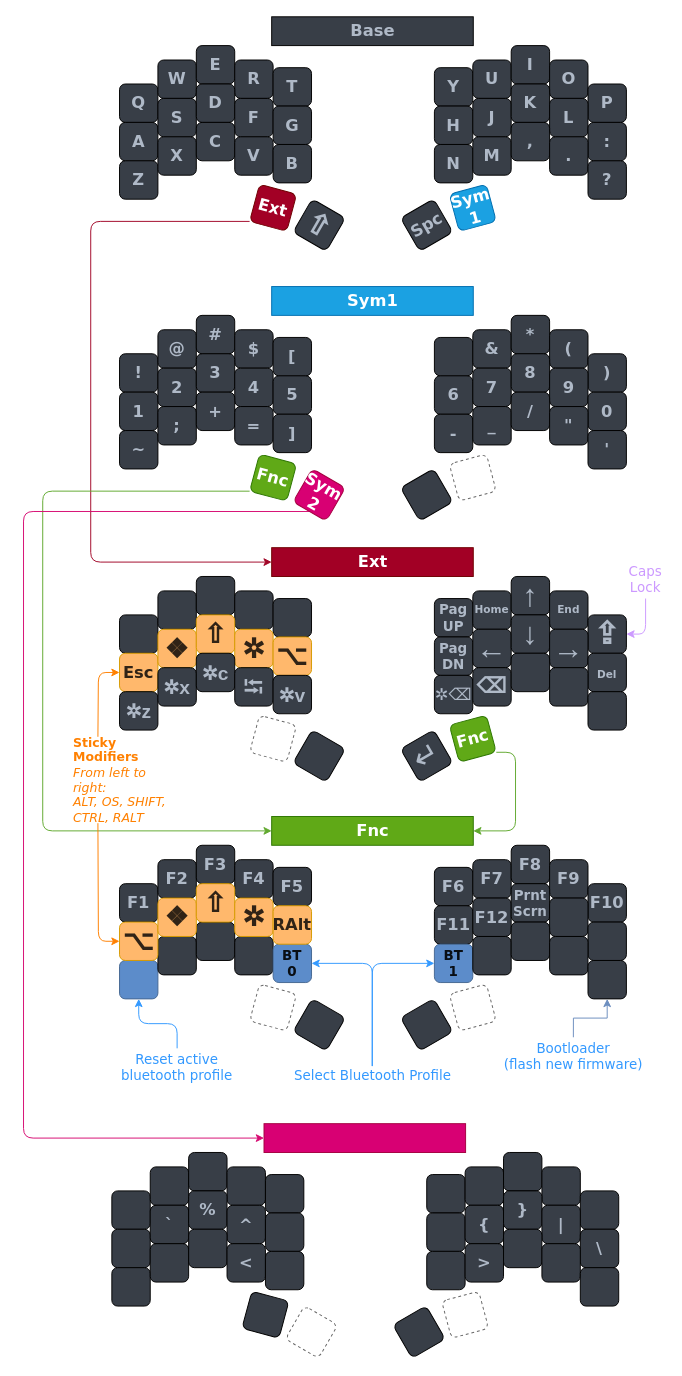
Image size: 682x1376. Some labels were removed from this diagram. Each missing label, with the centre of its shape:
"BL" goes at (x=606, y=979).
"BT RES" goes at (x=138, y=979).
"Sym2" goes at (x=364, y=1137).
